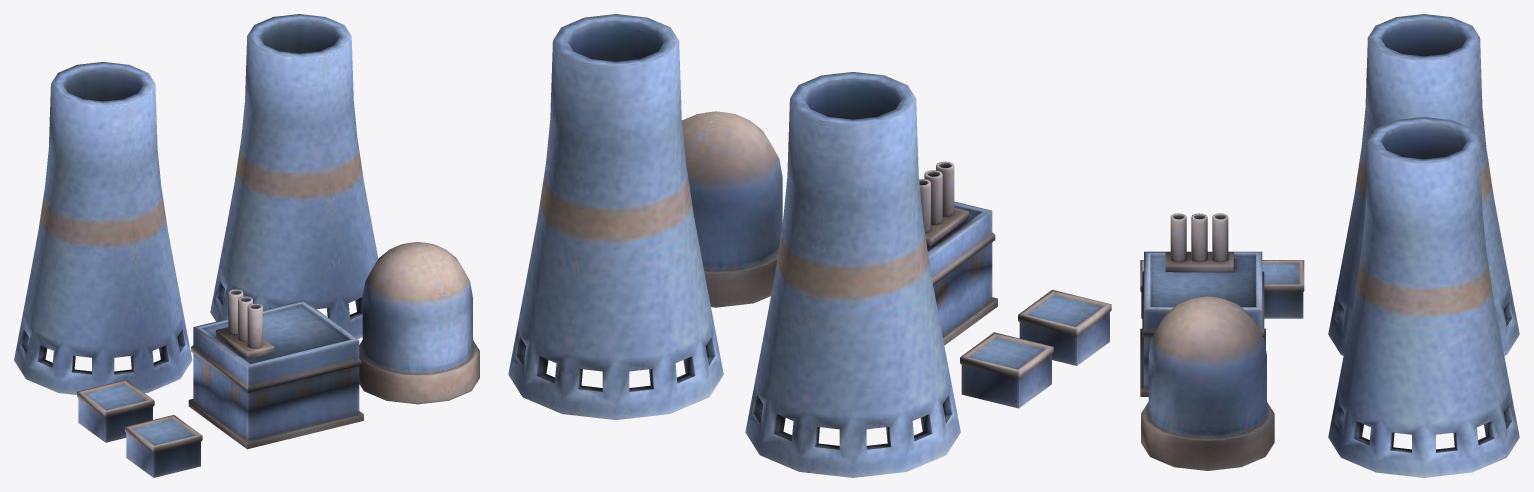
File: NuclearPlant.glb
3 views of the same model, side by side, from view 1: azimuth 30°, elevation 25°; view 2: azimuth 150°, elevation 25°; view 3: azimuth 270°, elevation 25° (orthographic). The views are drawn at different scales.
Parts seen in each view (by area): view 1: 1_low; view 2: 1_low; view 3: 1_low.
Boxes of the visible parts, bbox=[...] form: 1_low: bbox=[14, 14, 479, 477]; 1_low: bbox=[508, 14, 1111, 477]; 1_low: bbox=[1140, 14, 1519, 477].
Size of the model in its own units: 3.41 by 2.55 by 2.94.
Materials: 1 (1 with a texture image).
